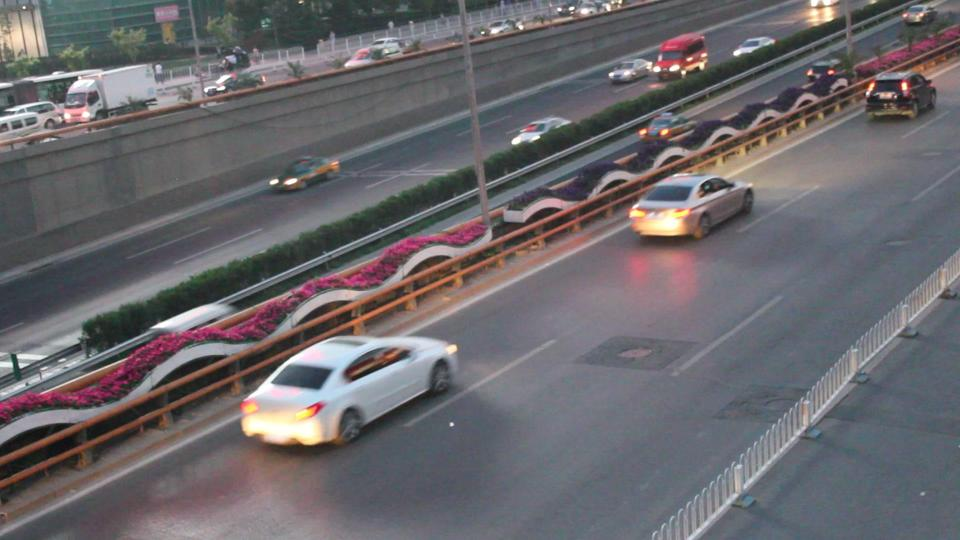bus: (1, 73, 107, 116)
car: (233, 334, 463, 449), (628, 174, 754, 241), (867, 76, 936, 122), (271, 157, 343, 192), (511, 119, 576, 151), (6, 99, 66, 133), (205, 67, 263, 100), (637, 113, 696, 145), (343, 44, 401, 67), (607, 59, 656, 84), (0, 116, 46, 141), (805, 60, 847, 83), (480, 17, 519, 36), (735, 38, 777, 55), (903, 4, 937, 24), (553, 0, 584, 17)
truck: (69, 65, 161, 129), (658, 35, 707, 79)
